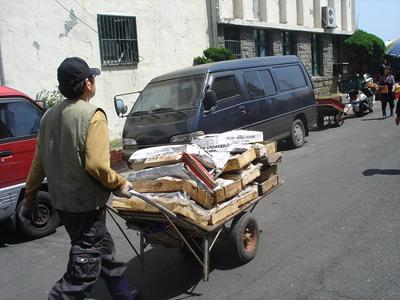person: (20, 56, 135, 300)
